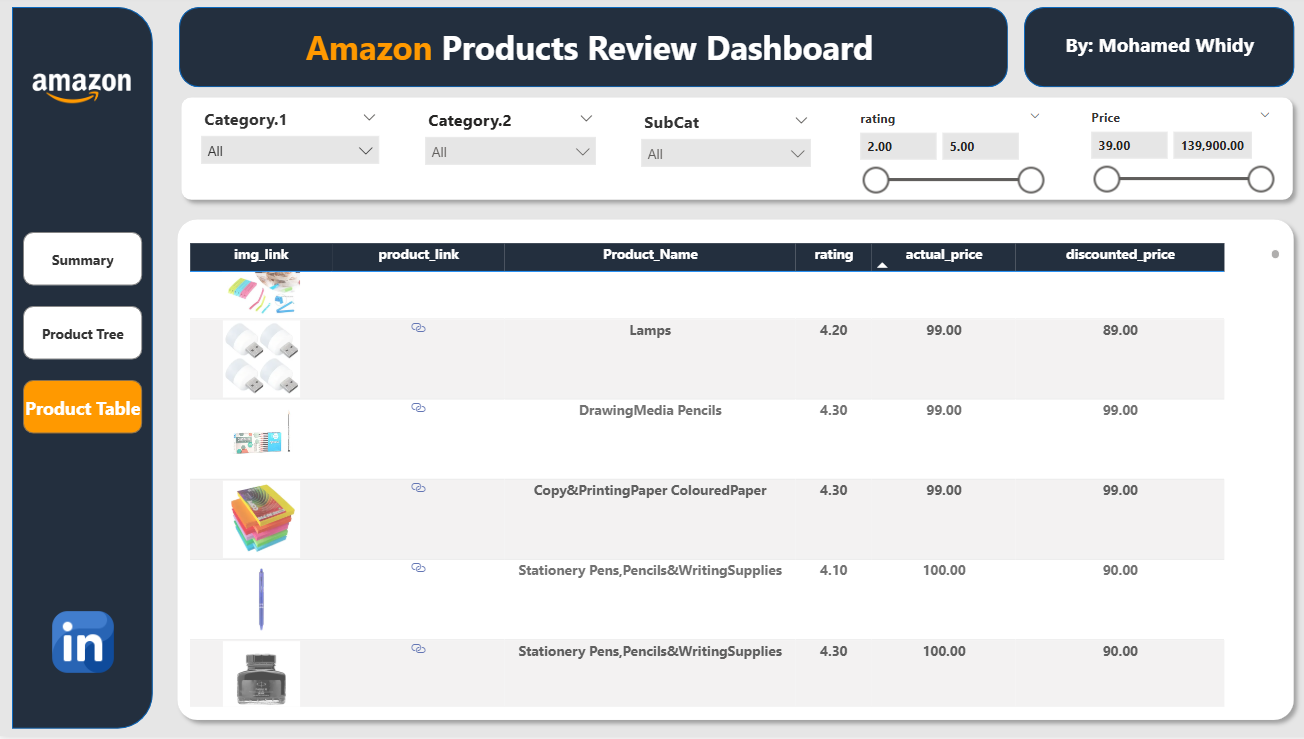

The page's visual inventory and layout, read from the dashboard file:
{"tool":"powerbi","page":{"name":"Product Table","canvas":[1280,720],"ordinal":2},"visuals":[{"type":"shape","box":[13,11,137,702],"z":0,"group":"g3"},{"type":"group","id":"g1","title":"Group 1","box":[164,208,1104,505],"z":0},{"type":"group","id":"g2","title":"Group 2","box":[168.7,89.9,1099.1,117.7],"z":1000},{"type":"shape","box":[175.1,10.7,806.3,78],"z":2000,"group":"g4"},{"type":"group","id":"g3","title":"Group 3","box":[13,11,137,702],"z":2000},{"type":"group","id":"g4","title":"Group 4","box":[175.1,10.7,806.3,77.8],"z":3000},{"type":"group","id":"g5","title":"Group 5","box":[997,10.7,262.6,77.8],"z":4000},{"type":"shape","box":[997,10.7,263,78],"z":4000,"group":"g5"},{"type":"image","box":[46,593,72,70],"z":5000},{"type":"shape","box":[168.7,89.9,1099.1,117.7],"z":6000,"group":"g2"},{"type":"pageNavigator","box":[23.3,229.5,116.7,196.5],"z":6000},{"type":"shape","box":[164,208,1104,505],"z":7000,"group":"g1"},{"type":"textbox","box":[269.8,22.7,609.9,54],"z":8000,"group":"g4"},{"type":"slicer","fields":{"Values":["AmazonData.category.1"]},"box":[186.7,103.1,192.6,89.5],"z":8000,"group":"g6"},{"type":"image","box":[13,39,136,98],"z":9000,"group":"g3"},{"type":"slicer","fields":{"Values":["AmazonData.category.2"]},"box":[404.1,104.1,185.8,88.5],"z":9000,"group":"g6"},{"type":"textbox","box":[1015.4,28.7,227.1,42],"z":10000,"group":"g5"},{"type":"slicer","fields":{"Values":["AmazonData.SubCat"]},"box":[614.7,106,184.8,88.5],"z":10000,"group":"g6"},{"type":"slicer","fields":{"Values":["AmazonData.rating"]},"box":[824.3,105,200.4,89.5],"z":11000,"group":"g6"},{"type":"slicer","fields":{"Values":["AmazonData.actual_price.1"]},"box":[1049.4,104.1,199.4,89.5],"z":12000,"group":"g6"},{"type":"group","id":"g6","title":"Group 6","box":[186.7,103.1,1062.1,91.4],"z":12001},{"type":"tableEx","fields":{"Values":["AmazonData.img_link","AmazonData.product_link","AmazonData.Product_Name","AmazonData.rating","AmazonData.actual_price","AmazonData.discounted_price"]},"box":[179.6,235.2,1070.9,461],"z":16000,"group":"g1"}]}

Visuals, with their boxes in screenshot pixels (x1, y1, x2, y2), scaled from the page's 1280x720 canvas onto the 1304x739 screenshot:
shape: 13 11 153 732
"Group 1" group: 167 213 1292 732
"Group 2" group: 172 92 1292 213
shape: 178 11 1000 91
"Group 3" group: 13 11 153 732
"Group 4" group: 178 11 1000 91
"Group 5" group: 1016 11 1283 91
shape: 1016 11 1284 91
image: 47 609 120 680
shape: 172 92 1292 213
pageNavigator: 24 236 143 437
shape: 167 213 1292 732
textbox: 275 23 896 79
slicer - AmazonData.category.1: 190 106 386 198
image: 13 40 152 141
slicer - AmazonData.category.2: 412 107 601 198
textbox: 1034 29 1266 73
slicer - AmazonData.SubCat: 626 109 814 200
slicer - AmazonData.rating: 840 108 1044 200
slicer - AmazonData.actual_price.1: 1069 107 1272 199
"Group 6" group: 190 106 1272 200
tableEx - AmazonData.img_link x AmazonData.product_link: 183 241 1274 715
